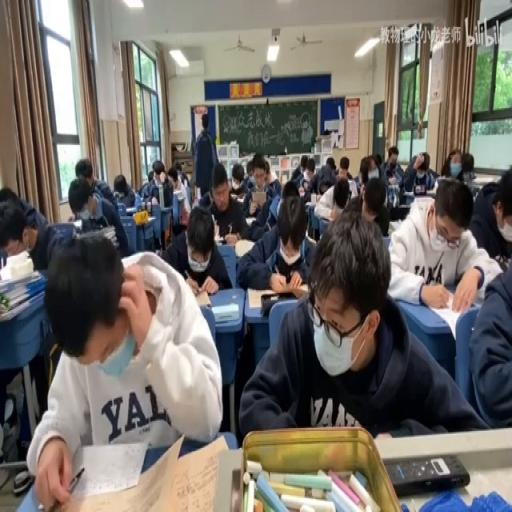calculator: (0, 259, 46, 321), (424, 299, 475, 340), (245, 284, 300, 308), (47, 223, 75, 256), (212, 302, 238, 322), (190, 287, 212, 307), (234, 238, 256, 256), (100, 223, 117, 245), (467, 179, 482, 198), (434, 176, 457, 188), (250, 189, 266, 205), (346, 178, 358, 199), (304, 230, 317, 249), (243, 213, 256, 226), (213, 219, 220, 242), (304, 196, 316, 209), (173, 188, 185, 200), (402, 189, 416, 199), (386, 219, 396, 233), (70, 219, 82, 230), (125, 205, 136, 215), (426, 186, 436, 196)
paper: (239, 209, 483, 442), (28, 233, 220, 512), (467, 243, 512, 428), (0, 191, 57, 270), (467, 164, 512, 264), (207, 164, 251, 243), (347, 173, 390, 239), (144, 159, 174, 245), (312, 169, 354, 225), (192, 111, 218, 200), (74, 158, 116, 209), (402, 148, 436, 192), (293, 155, 315, 199), (112, 174, 136, 208), (262, 156, 282, 194), (386, 189, 408, 222), (440, 148, 462, 176), (383, 146, 399, 178), (334, 155, 352, 182), (267, 192, 281, 223), (461, 152, 474, 181), (358, 156, 370, 186), (281, 179, 299, 198), (230, 168, 244, 190), (0, 185, 17, 203), (152, 161, 165, 179), (171, 160, 182, 178), (132, 192, 142, 210), (230, 188, 244, 200), (325, 155, 334, 171), (374, 154, 382, 168), (320, 182, 330, 193), (202, 112, 208, 128), (246, 161, 252, 176), (147, 169, 154, 181), (300, 162, 307, 174)
person: (386, 452, 470, 494), (12, 469, 32, 495), (146, 196, 152, 214), (214, 238, 226, 243)
